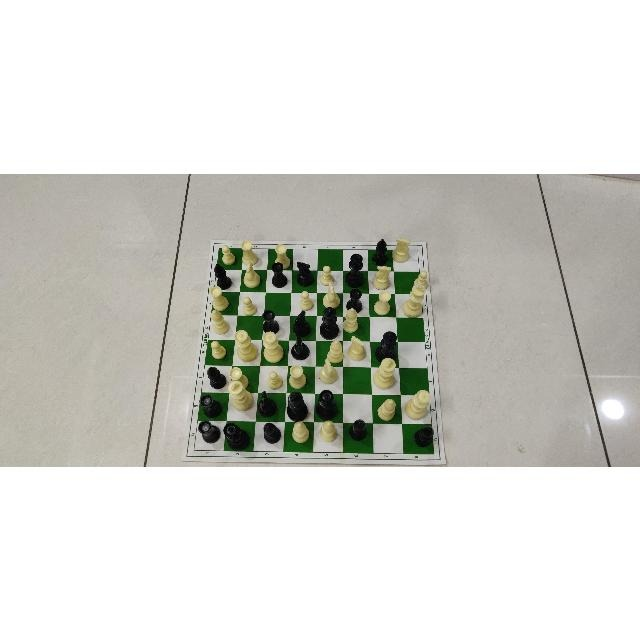black-bishop: (412, 424, 435, 448), (213, 262, 232, 289), (371, 236, 388, 266), (206, 365, 227, 389), (348, 418, 367, 442), (262, 421, 282, 443)
black-king: (374, 330, 398, 362), (286, 390, 308, 422), (318, 306, 339, 339)
black-knight: (256, 389, 278, 417), (291, 309, 311, 337), (295, 260, 315, 286), (290, 334, 310, 360)
black-queen: (222, 420, 250, 451), (315, 388, 339, 420), (345, 252, 365, 288)
black-rook: (196, 418, 221, 443), (198, 392, 222, 417), (260, 307, 279, 334), (270, 260, 288, 287), (344, 287, 363, 312)
white-bishop: (210, 307, 230, 334), (376, 397, 396, 421), (342, 306, 360, 332), (318, 419, 337, 443), (326, 339, 345, 363), (292, 419, 310, 443)
white-king: (401, 282, 426, 318), (227, 378, 253, 411), (373, 356, 397, 390)
white-knight: (242, 257, 261, 288), (317, 356, 338, 384), (391, 235, 411, 263), (371, 264, 392, 290), (322, 279, 340, 308), (346, 335, 366, 361)
white-pawn: (210, 339, 228, 359), (220, 243, 236, 265), (319, 263, 335, 285), (412, 269, 429, 289), (242, 295, 258, 316), (298, 289, 313, 310), (267, 369, 283, 388)
white-queen: (404, 388, 431, 420), (233, 328, 258, 362), (261, 329, 284, 363)
white-rook: (228, 365, 250, 391), (210, 284, 230, 311), (288, 363, 307, 389), (240, 238, 258, 265), (273, 241, 290, 269), (372, 290, 391, 314)
